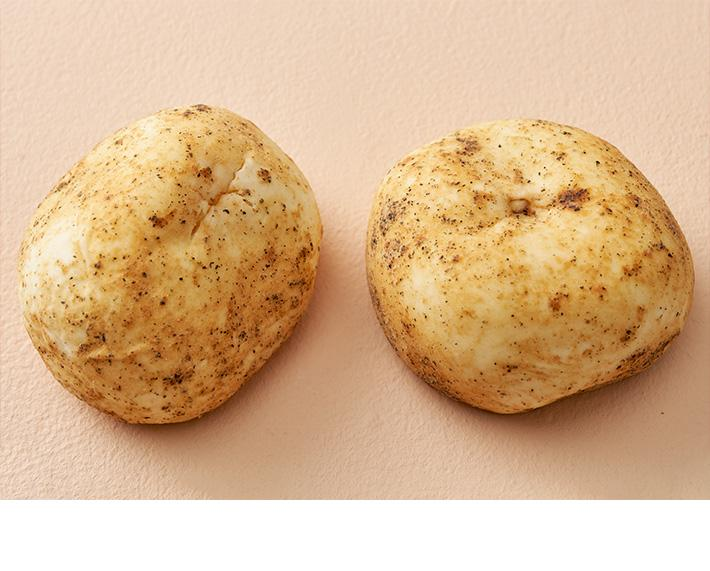potato: (30, 91, 346, 383), (413, 103, 710, 377)
